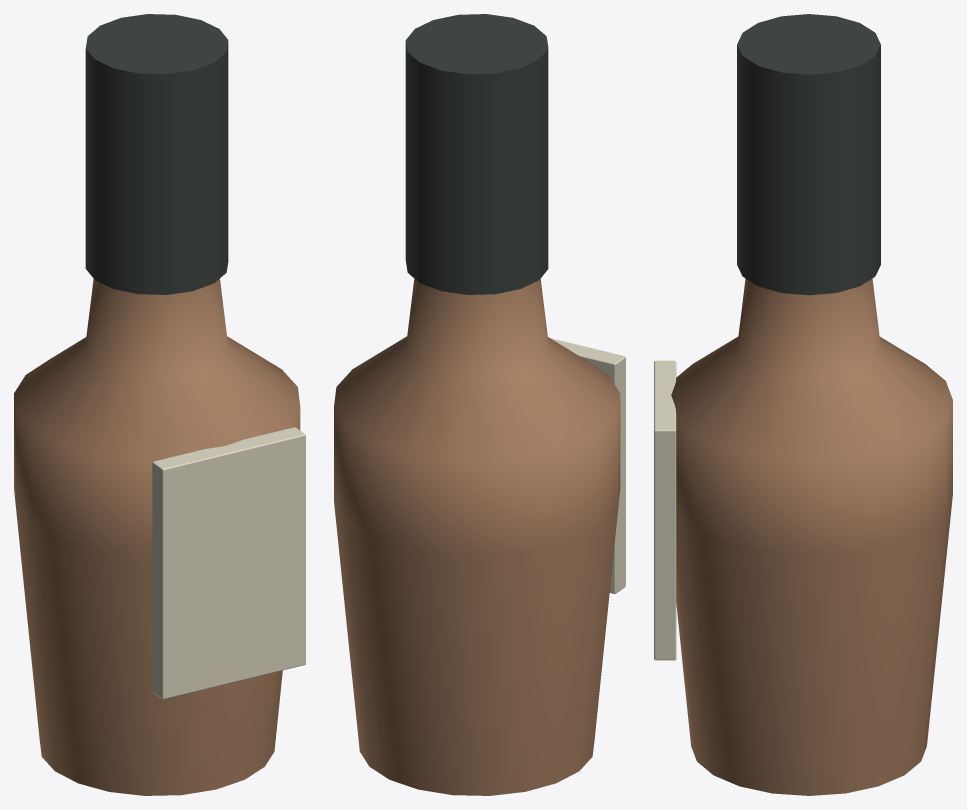
Rendered from field-medicine-and-recovery-medicine-vial-7666e8ba__3056.glb.
3 views of the same model, side by side, from view 1: azimuth 30°, elevation 25°; view 2: azimuth 150°, elevation 25°; view 3: azimuth 270°, elevation 25° (orthographic).
Parts seen in each view (by area): view 1: medicine-vial; view 2: medicine-vial; view 3: medicine-vial.
Part boxes in pixels (box(x1,y1,x2,y2)): medicine-vial: box(14, 14, 305, 795); medicine-vial: box(334, 14, 625, 795); medicine-vial: box(654, 14, 952, 795).
Size of the model in its own units: 0.026 by 0.07 by 0.027.
